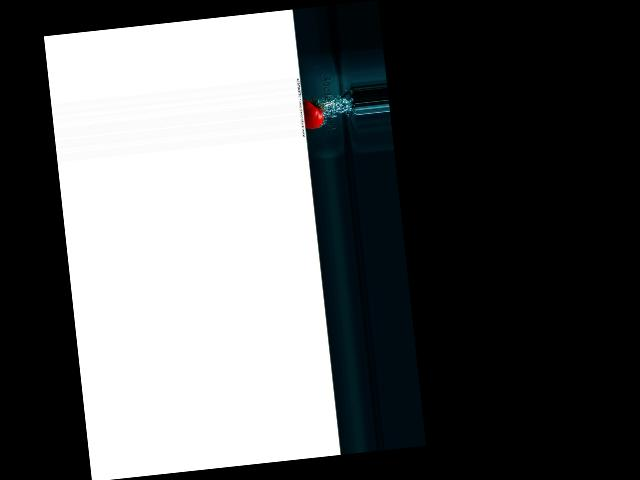tomato: (302, 98, 324, 129)
